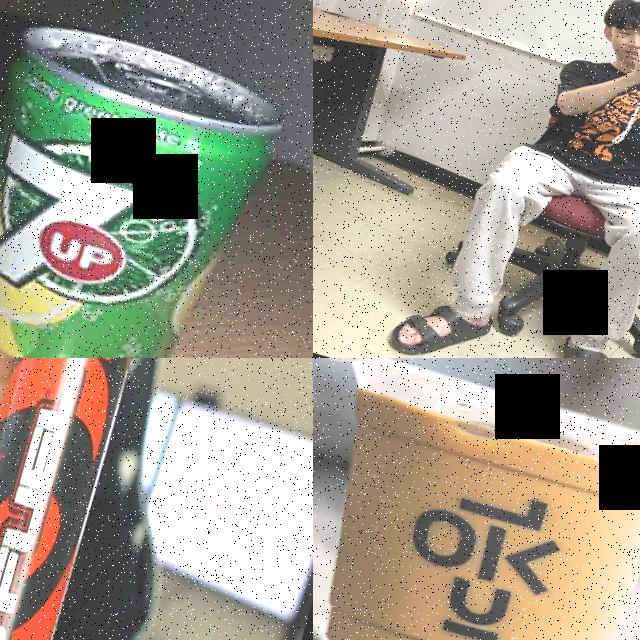can: (0, 10, 295, 358), (0, 358, 162, 640)
cup: (313, 358, 640, 640)
